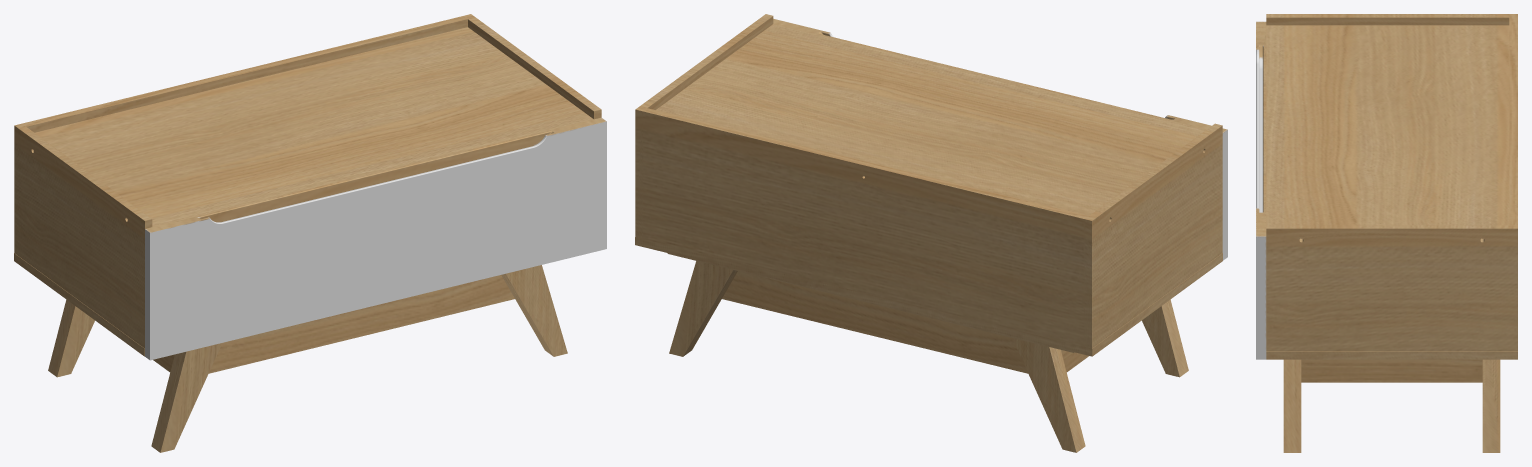
The picture shows the model from 3 angles, left to right: view 1: azimuth 30°, elevation 25°; view 2: azimuth 150°, elevation 25°; view 3: azimuth 270°, elevation 25°; orthographic projection. The views are drawn at different scales.
Parts seen in each view (by area): view 1: A331330-PISOSXXXPI; view 2: A331330-PISOSXXXPI; view 3: A331330-PISOSXXXPI.
Boxes of the visible parts, x1=… form: A331330-PISOSXXXPI: x1=14, y1=14, x2=606, y2=452; A331330-PISOSXXXPI: x1=635, y1=14, x2=1227, y2=452; A331330-PISOSXXXPI: x1=1256, y1=14, x2=1517, y2=452.
Size of the model in its own units: 9 by 4.6 by 4.63.
1 material, 1 textured.
